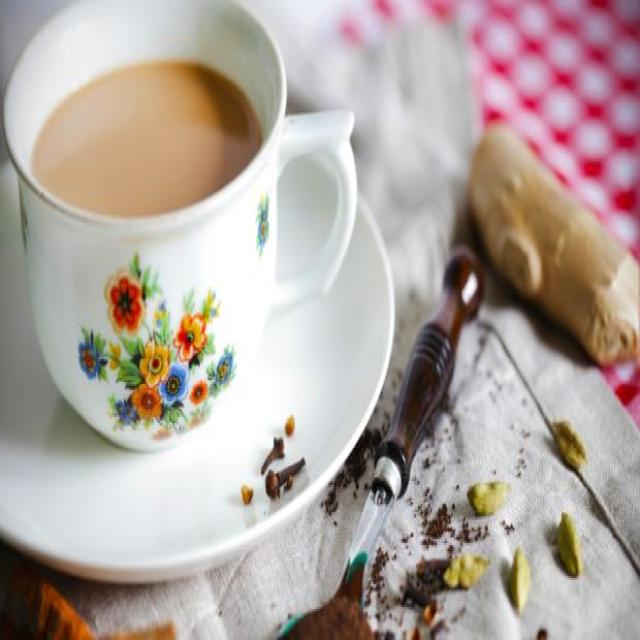chai: (3, 0, 356, 446)
